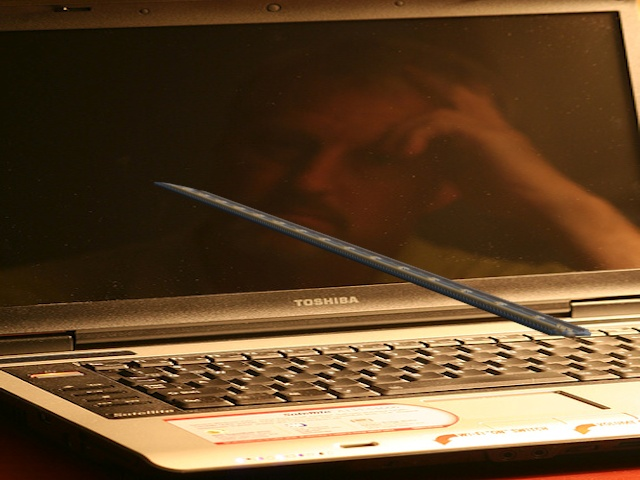ruler: (153, 176, 593, 344)
